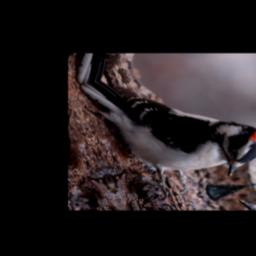Woodpecker: (78, 56, 256, 199)
